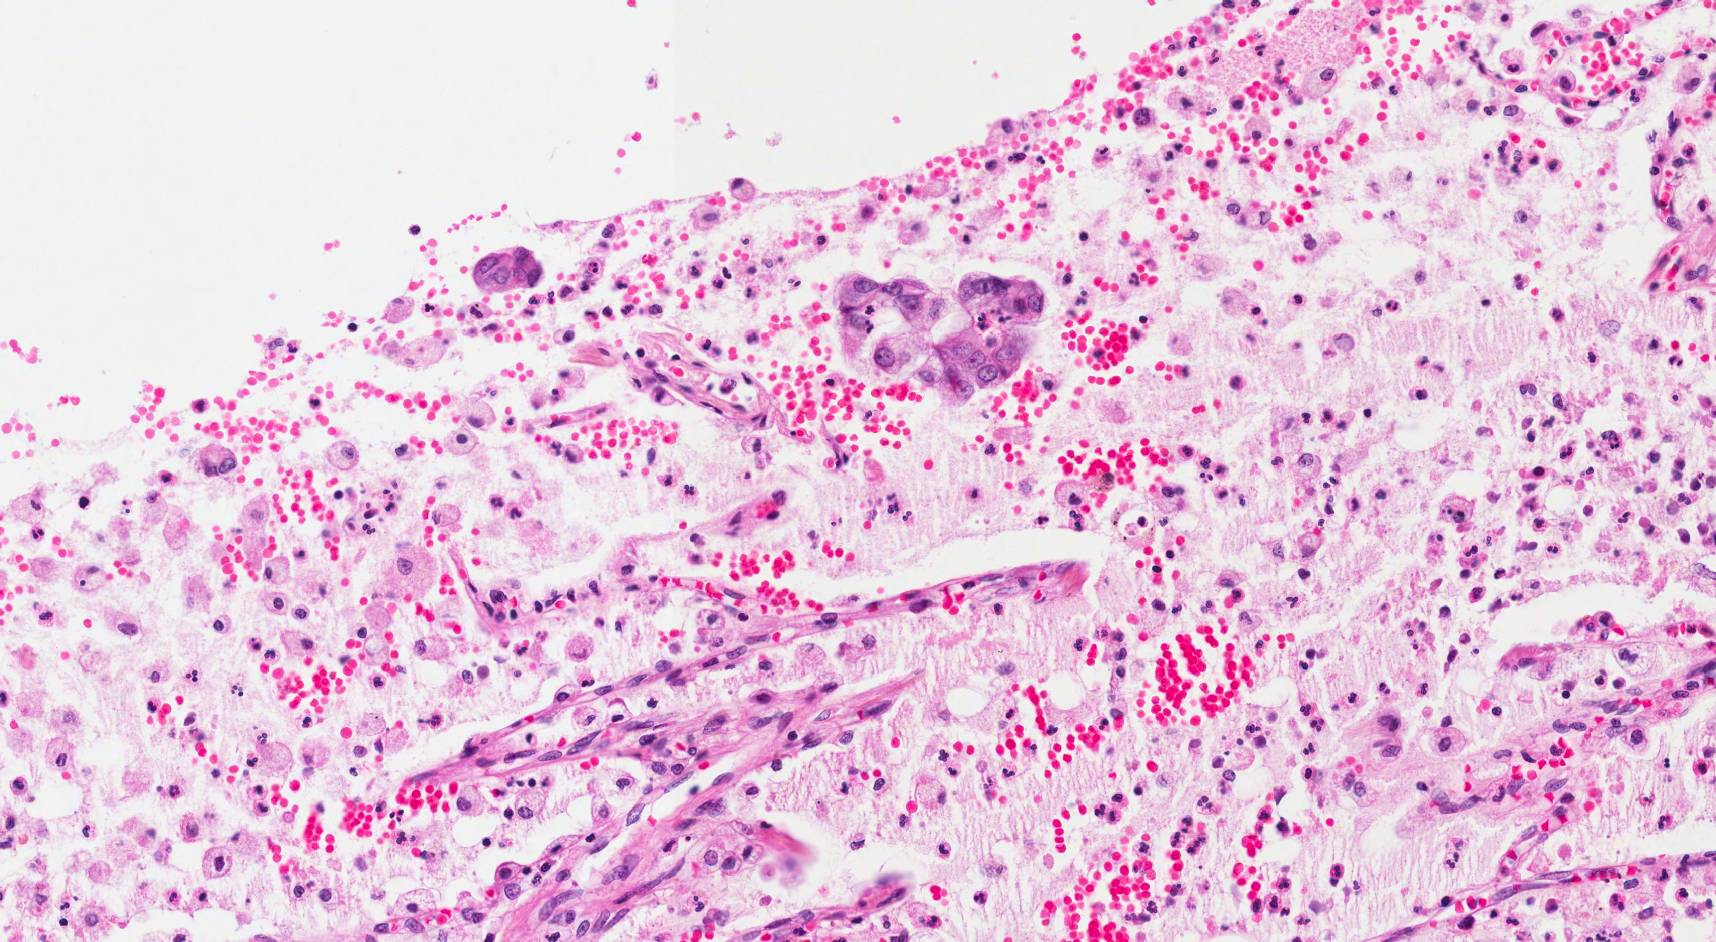stas: (833, 267, 1049, 401), (467, 240, 545, 292)
